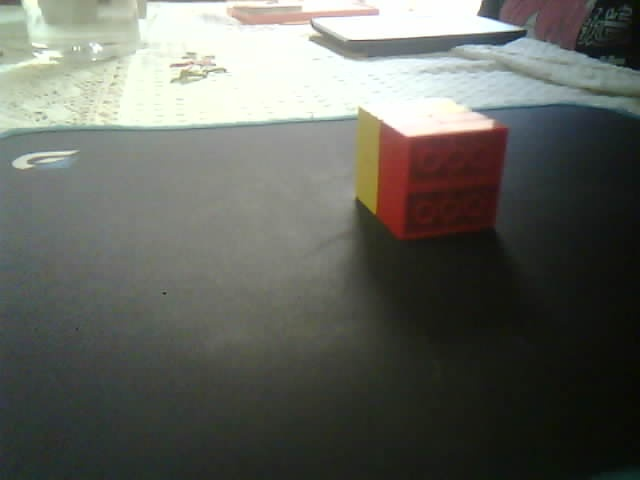lego: (351, 93, 510, 244)
